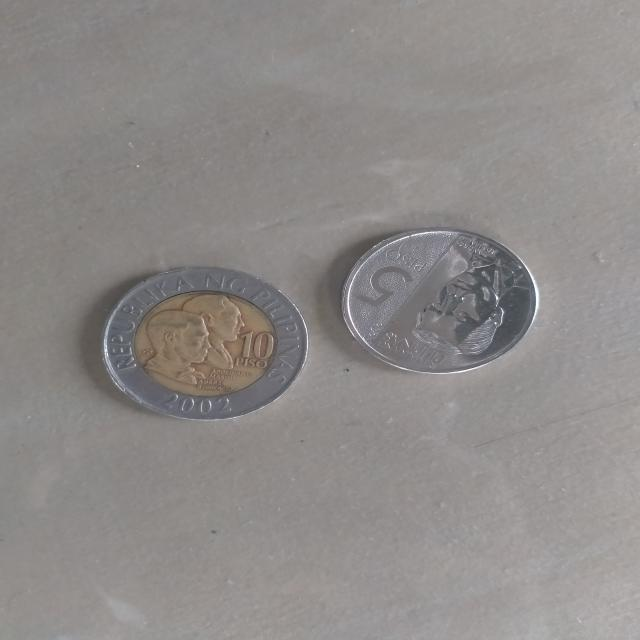10_Old_Front: (108, 266, 304, 421)
5_New_Front: (340, 230, 538, 372)
